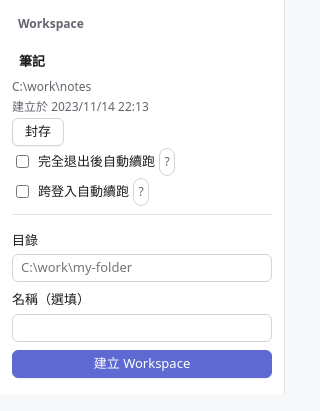
Test: 左側 Workspace 清單 › 封存後從清單消失
Click the button with aria-label "封存 筆記".
click(38, 132)  # box 12,118 -> 64,146
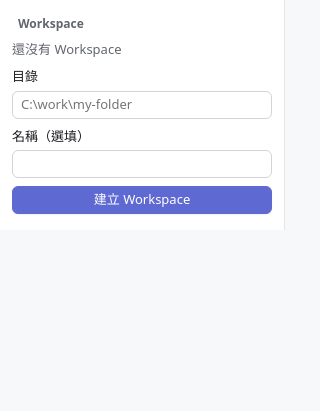
Check: the button "筆記" is gone
Check: the text "還沒有 Workspace" is shown, box 12,40 -> 122,58
